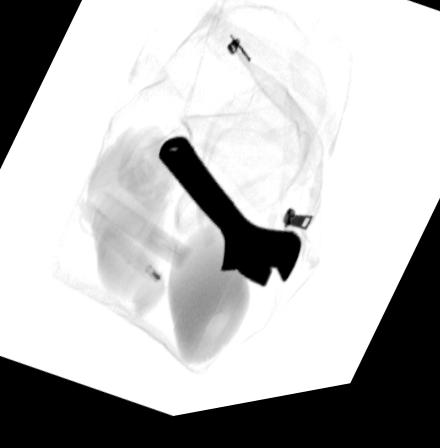Wrench: (156, 141, 303, 299)
